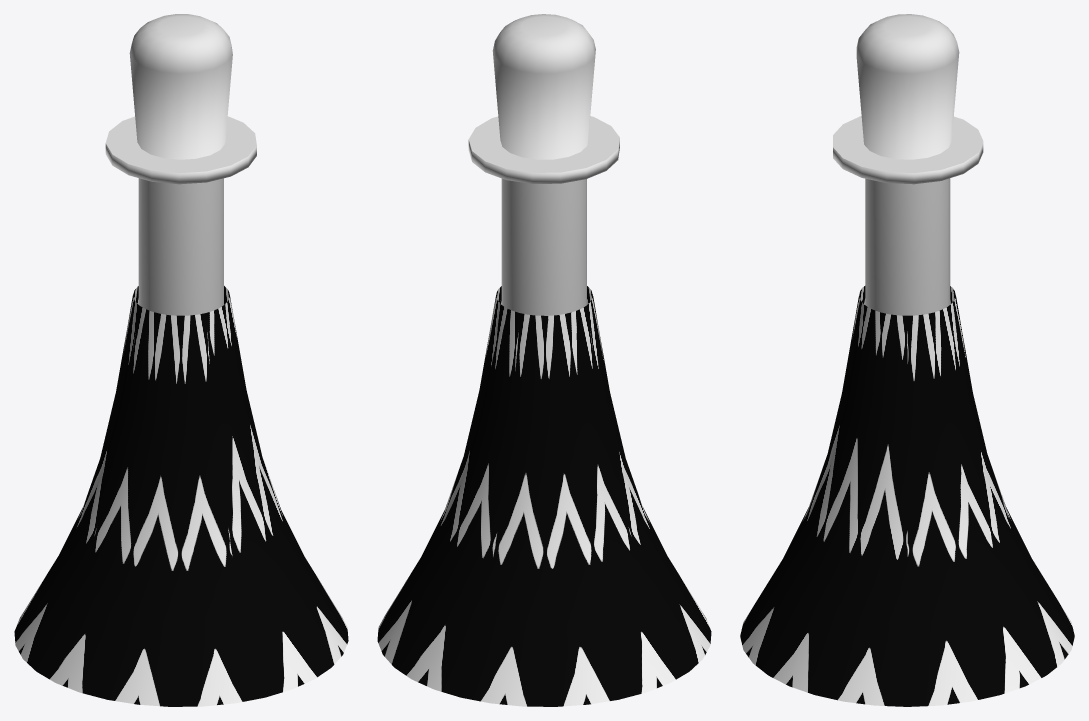
File: ColorDropper.fbx
3 renders of one model, left to right at view 1: azimuth 30°, elevation 25°; view 2: azimuth 150°, elevation 25°; view 3: azimuth 270°, elevation 25°, orthographic.
Parts seen in each view (by area): view 1: InOutCone, Top, OuterGlass; view 2: InOutCone, Top, OuterGlass; view 3: InOutCone, Top, OuterGlass.
Boxes of the visible parts, left/top/right/bottom form: InOutCone: left=14, top=286, right=348, bottom=706; Top: left=105, top=14, right=256, bottom=184; OuterGlass: left=138, top=178, right=223, bottom=315; InOutCone: left=377, top=286, right=711, bottom=706; Top: left=468, top=14, right=619, bottom=183; OuterGlass: left=501, top=178, right=586, bottom=315; InOutCone: left=740, top=286, right=1074, bottom=706; Top: left=833, top=14, right=983, bottom=184; OuterGlass: left=865, top=178, right=950, bottom=315.
Size of the model in its own units: 181 by 364 by 181.
